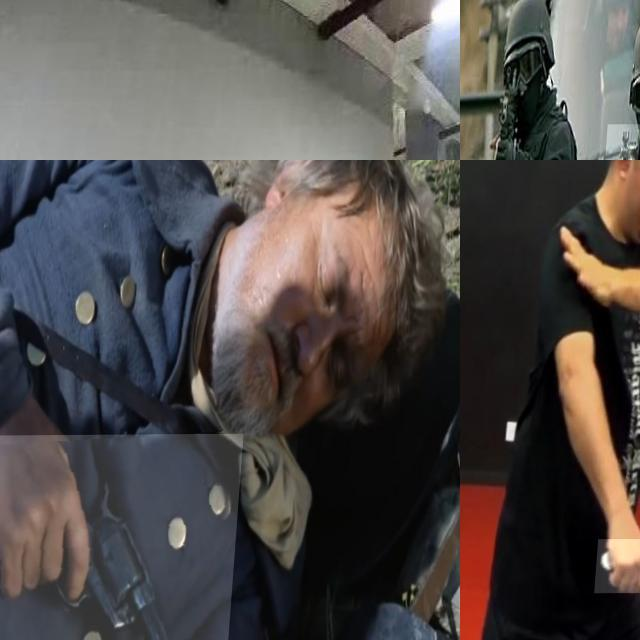-: (603, 539, 640, 593)
gun-knife-thesis - v11 Yolov5 augmented: (0, 434, 248, 640), (601, 124, 640, 160)
